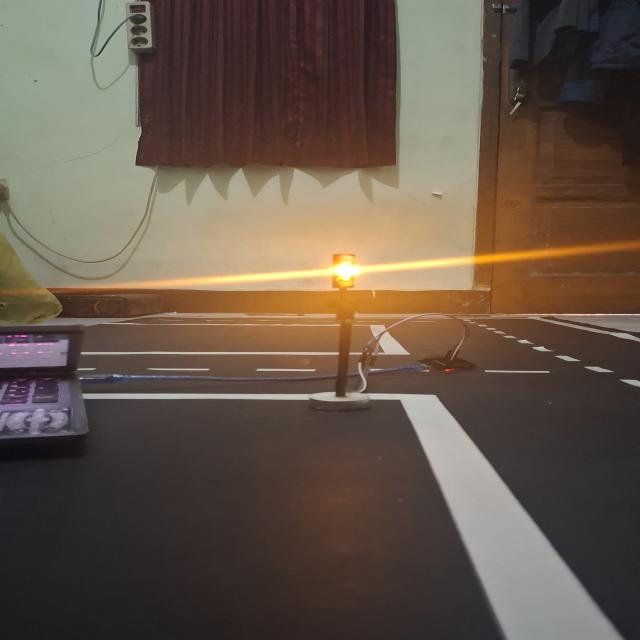Lampu Kuning: (332, 253, 357, 289)
